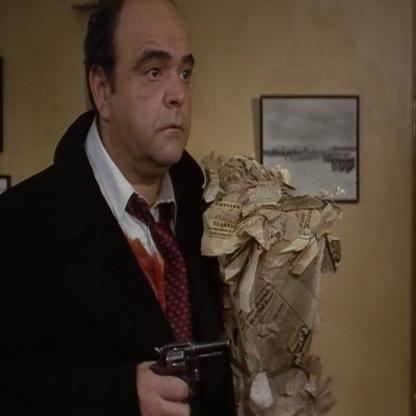gun: (151, 336, 237, 373)
